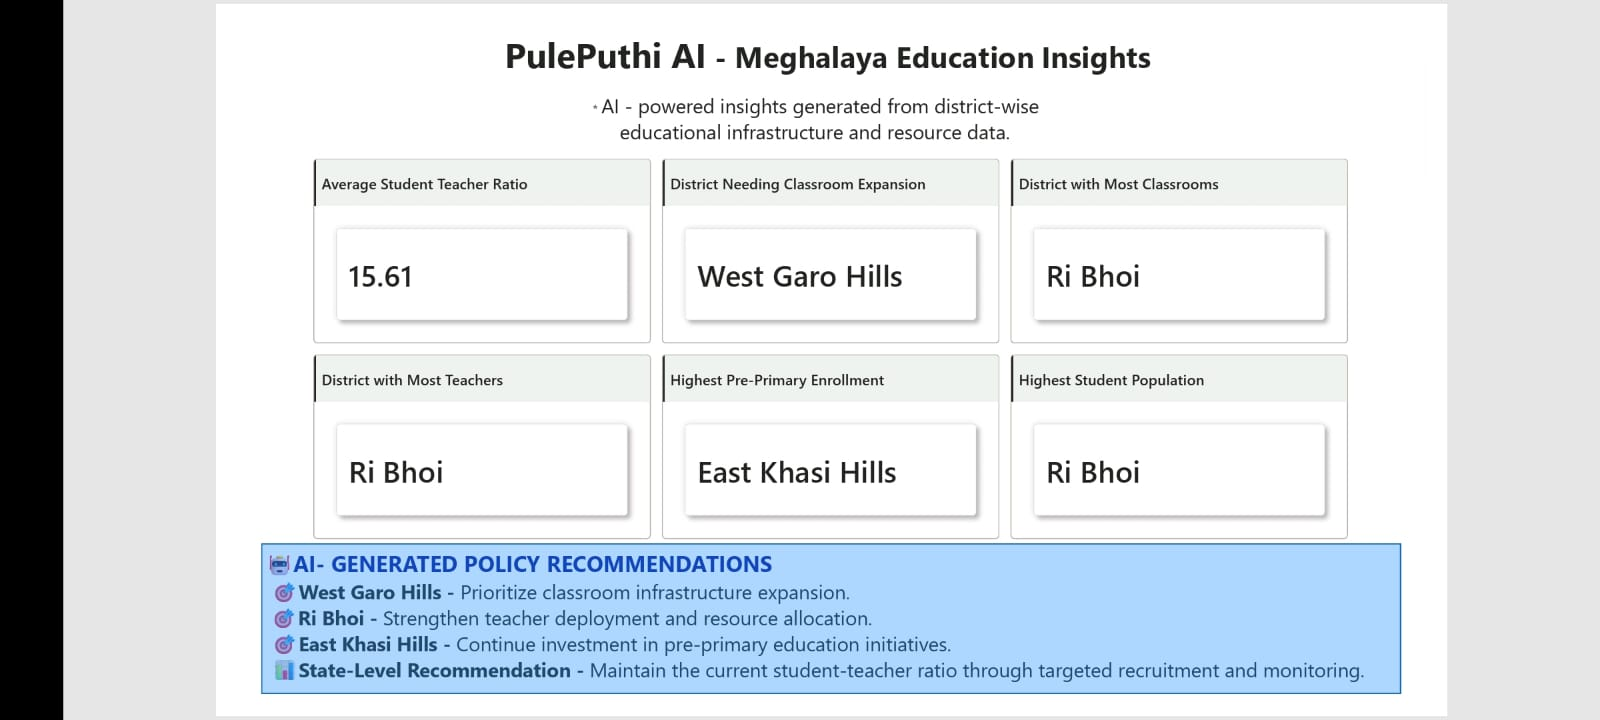

The page's visual inventory and layout, read from the dashboard file:
{"tool":"powerbi","page":{"name":"AI Policy Insights","canvas":[1280,720],"ordinal":2},"visuals":[{"type":"textbox","box":[56.3,0,1167.1,137.8],"z":0},{"type":"cardVisual","fields":{"Rows":["AI_Insights.KPI"],"Data":["Min(AI_Insights.Value)"]},"box":[56.3,137.8,1167.1,420.4],"z":1000},{"type":"textbox","box":[25.3,558.3,1229.1,162],"z":2000},{"type":"shape","box":[25.3,558.3,1229.1,162],"z":2001}]}

Visuals, with their boxes on the page's 1280x720 design canvas (x1, y1, x2, y2). These are canvas units, not pixel positions in the 1600x720 screenshot, which may show the page scaled, cropped or inside an application window:
textbox: crop(56, 0, 1223, 138)
cardVisual - AI_Insights.KPI x Min(AI_Insights.Value): crop(56, 138, 1223, 558)
textbox: crop(25, 558, 1254, 720)
shape: crop(25, 558, 1254, 720)
